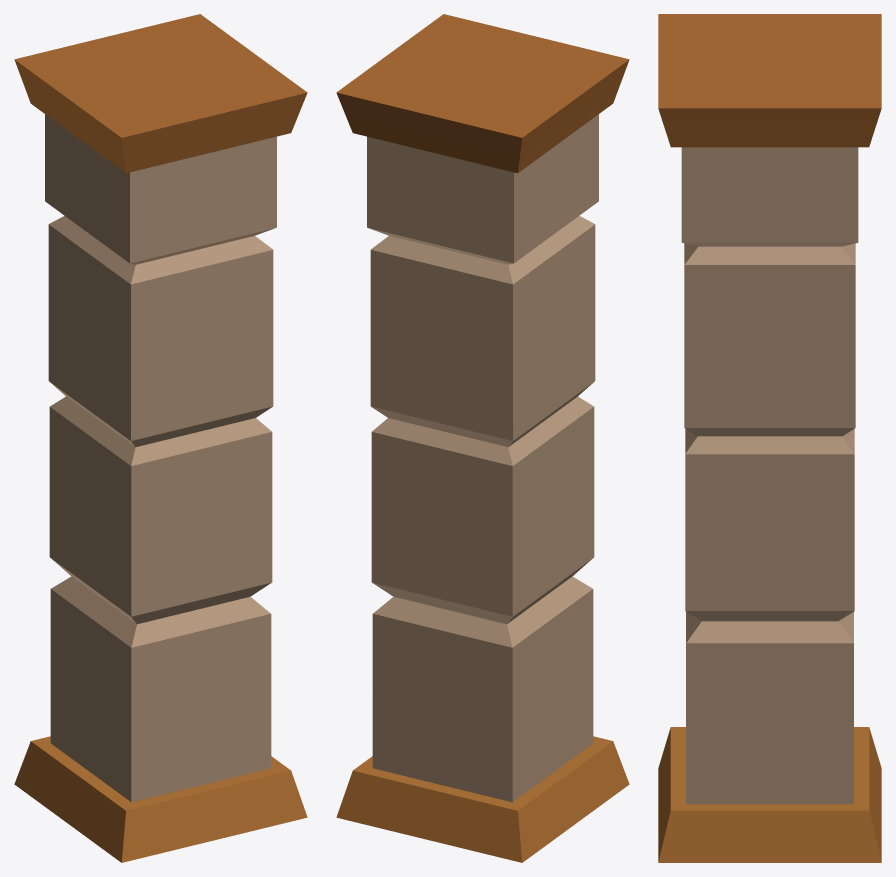
Rendered from Floor_pillar_B.fbx.
The picture shows the model from 3 angles, left to right: view 1: azimuth 30°, elevation 25°; view 2: azimuth 150°, elevation 25°; view 3: azimuth 270°, elevation 25°; orthographic projection. The views are drawn at different scales.
Visible parts, largest first — view 1: Floor_pillar_B; view 2: Floor_pillar_B; view 3: Floor_pillar_B.
Part boxes in pixels (box(x1,y1,x2,y2)): Floor_pillar_B: box(14, 14, 307, 862); Floor_pillar_B: box(336, 14, 629, 862); Floor_pillar_B: box(658, 14, 881, 862).
Bounding box in the file's own units: 100 × 373 × 100.
